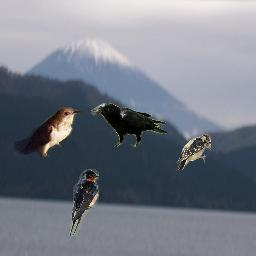Crow: (90, 103, 167, 147)
Cuckoo: (14, 107, 83, 157)
Swallow: (68, 169, 99, 236)
Woodpecker: (173, 134, 211, 172)
